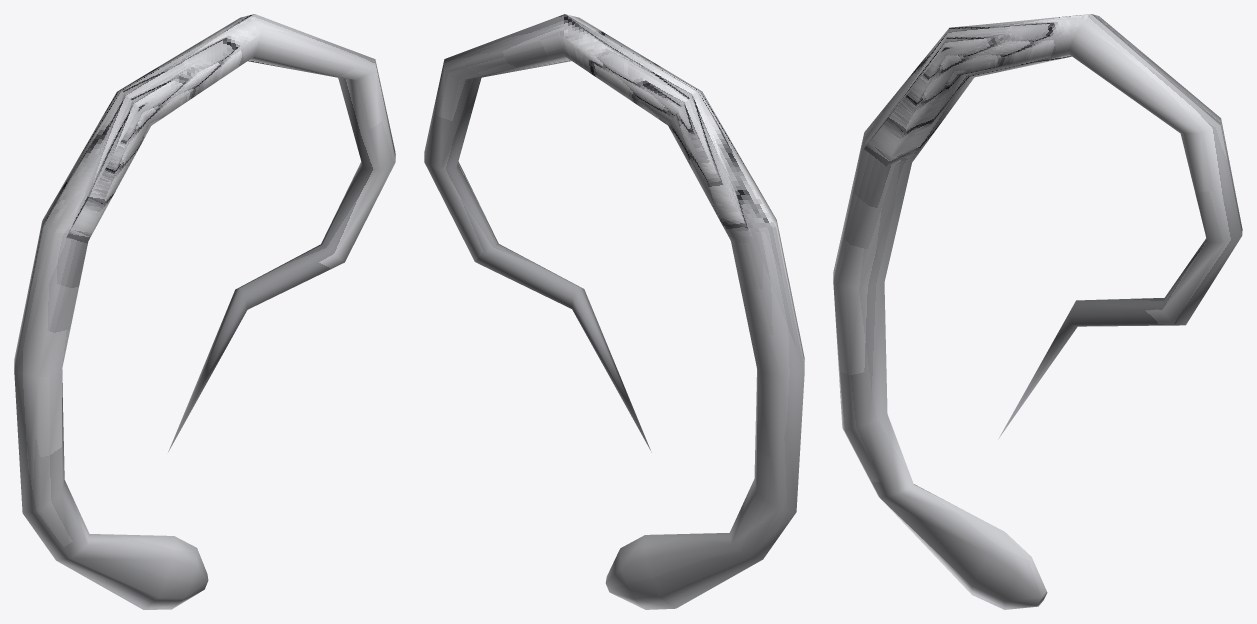
The model's file is snake_000020.obj.
The picture shows the model from 3 angles, left to right: view 1: azimuth 30°, elevation 25°; view 2: azimuth 150°, elevation 25°; view 3: azimuth 330°, elevation 25°; orthographic projection. The views are drawn at different scales.
Parts seen in each view (by area): view 1: Cylinder; view 2: Cylinder; view 3: Cylinder.
Part boxes in pixels (x1,y1,x2,y2): Cylinder: (14,14,395,609); Cylinder: (424,14,804,609); Cylinder: (833,14,1242,609).
Bounding box in the file's own units: 3.39 × 4.9 × 0.3671.
